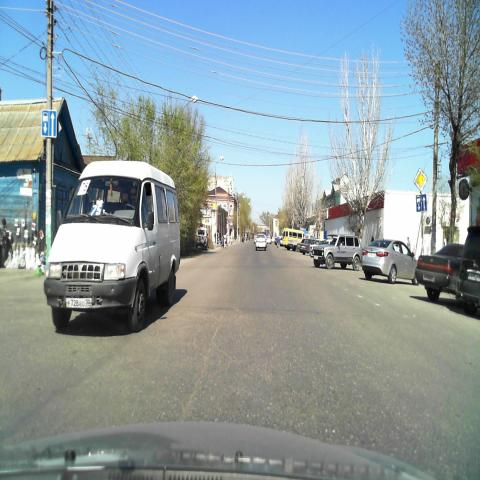5_11: (41, 109, 58, 140), (416, 194, 427, 212)
